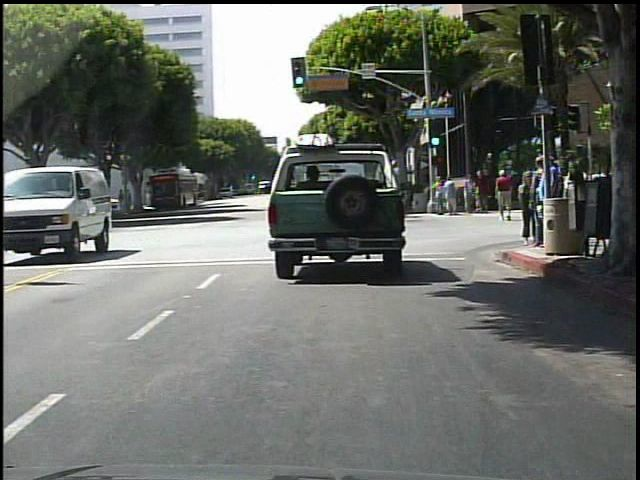person: (533, 153, 558, 258), (516, 169, 537, 247), (533, 153, 549, 249), (495, 167, 516, 222), (520, 177, 538, 224), (540, 171, 555, 219), (443, 176, 459, 217), (477, 169, 490, 212), (464, 174, 477, 213), (434, 176, 444, 215), (118, 189, 127, 212), (127, 189, 135, 214)
